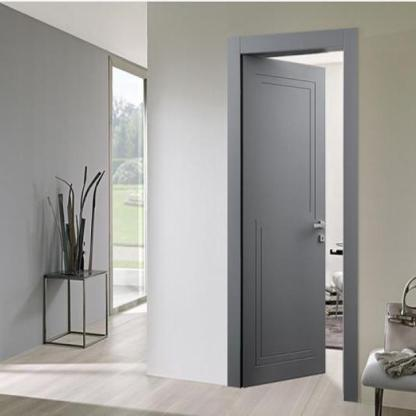door: (228, 29, 362, 407)
